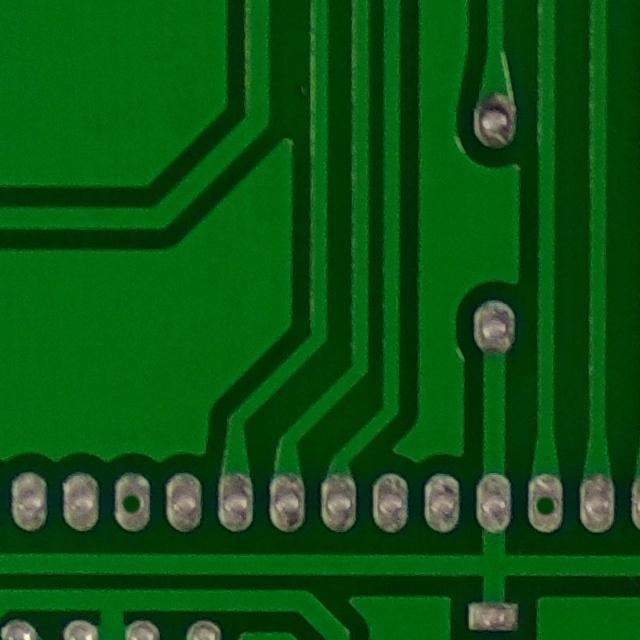missing_hole: (517, 474, 575, 537), (104, 475, 157, 537)
